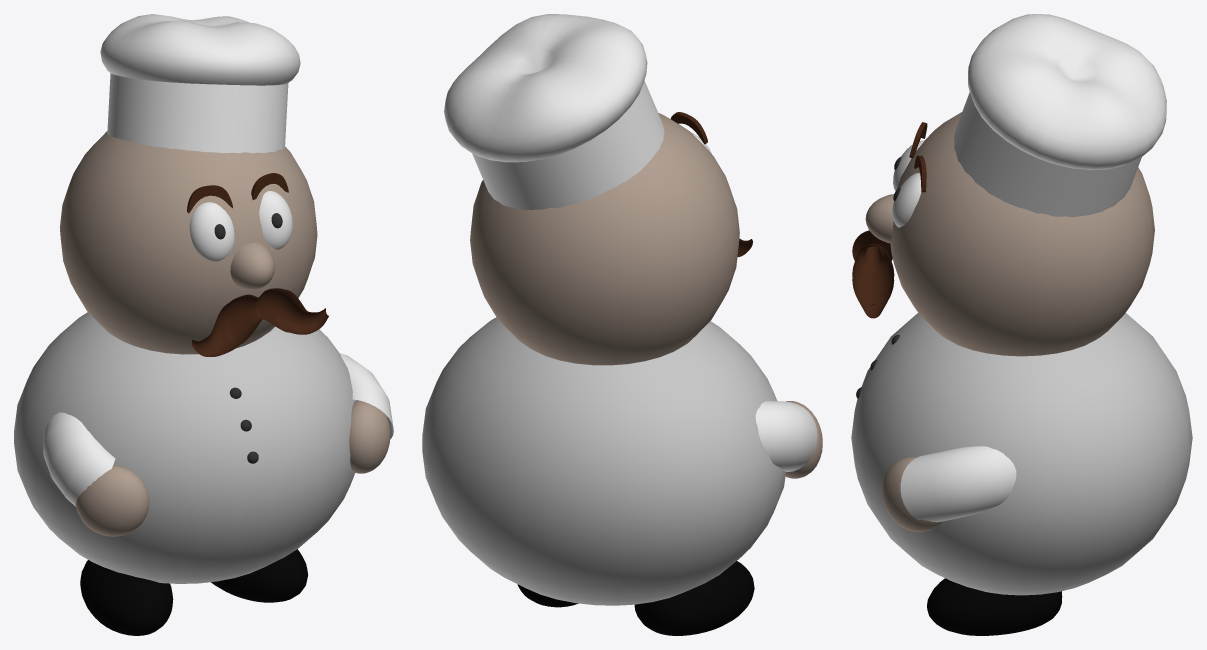
The model's file is Chef.fbx.
The picture shows the model from 3 angles, left to right: view 1: azimuth 30°, elevation 25°; view 2: azimuth 150°, elevation 25°; view 3: azimuth 270°, elevation 25°; orthographic projection. The views are drawn at different scales.
Visible parts, largest first — view 1: Body, Head, nurbsCylinder1, nurbsSphere3, RightShoe, RightArm, RightHand, LeftShoe, LeftHand, loftedSurface2, loftedSurface1, nurbsSphere5 (+4 smaller); view 2: Body, Head, nurbsSphere3, nurbsCylinder1, RightShoe, RightArm, RightHand; view 3: Body, Head, nurbsSphere3, nurbsCylinder1, LeftArm, LeftShoe, loftedSurface1, LeftHand, Nose, nurbsSphere6, loftedSurface2.
Part boxes in pixels (x1,y1,x2,y2): Body: (14,312,357,583); Head: (60,131,317,354); nurbsCylinder1: (107,73,288,153); nurbsSphere3: (100,14,300,85); RightShoe: (80,560,173,635); RightArm: (43,412,115,506); RightHand: (75,465,149,536); LeftShoe: (211,549,307,602); LeftHand: (349,400,390,473); loftedSurface2: (191,294,262,356); loftedSurface1: (256,288,328,334); nurbsSphere5: (189,202,234,261); Body: (422,317,785,605); Head: (470,113,739,365); nurbsSphere3: (444,14,647,162); nurbsCylinder1: (472,80,664,209); RightShoe: (634,561,754,635); RightArm: (755,401,817,471); RightHand: (785,401,822,478); Body: (851,313,1192,595); Head: (890,112,1154,356); nurbsSphere3: (968,14,1166,170); nurbsCylinder1: (953,92,1141,217); LeftArm: (900,446,1016,522); LeftShoe: (927,578,1062,635); loftedSurface1: (852,243,894,318); LeftHand: (881,457,942,532); Nose: (865,194,894,243); nurbsSphere6: (892,173,921,227); loftedSurface2: (852,230,892,264).
Bounding box in the file's own units: 255 × 422 × 225.
